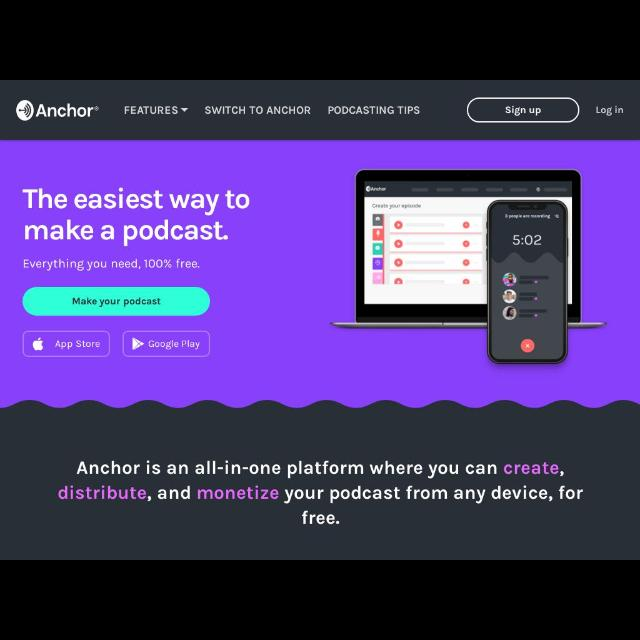icon: (181, 106, 189, 112)
image: (325, 168, 617, 370), (16, 100, 100, 124), (130, 336, 144, 352), (32, 338, 44, 352)
spinner: (122, 104, 190, 116)
text: (58, 459, 588, 525), (19, 186, 252, 250), (22, 257, 200, 273), (204, 104, 310, 116), (328, 104, 422, 116), (71, 297, 163, 307), (122, 104, 178, 116), (148, 339, 202, 351), (504, 104, 544, 116), (54, 340, 100, 350), (594, 106, 626, 118)
textbutton: (22, 286, 210, 316), (468, 98, 580, 124), (120, 330, 210, 360), (22, 332, 110, 358)
toolbar: (1, 81, 639, 140)
